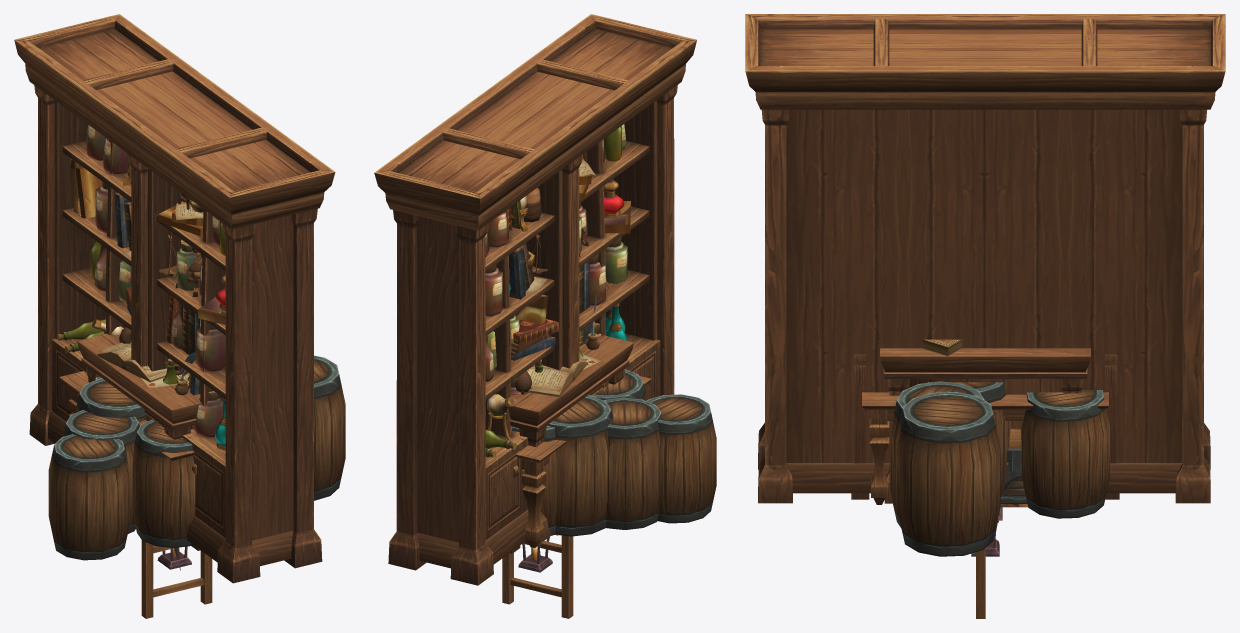
The model's file is props.dae.
The picture shows the model from 3 angles, left to right: view 1: azimuth 30°, elevation 25°; view 2: azimuth 150°, elevation 25°; view 3: azimuth 270°, elevation 25°; orthographic projection. The views are drawn at different scales.
Visible parts, largest first — view 1: Cupboard_03_mesh, Barrels_Preset_02_Mesh, Cupboard_Big_Preset_03_mesh, Drawer_01_mesh, Cupboard_Preset_02_mesh, Barrels_Preset_01_Mesh, Ladder_01_mesh, Drawer_Preset_02_mesh, Table_01_mesh, Lantern_01; view 2: Cupboard_03_mesh, Barrels_Preset_02_Mesh, Cupboard_Big_Preset_03_mesh, Barrels_Preset_01_Mesh, Drawer_01_mesh, Cupboard_Preset_02_mesh, Table_01_mesh, Ladder_01_mesh, Drawer_Preset_02_mesh, Lantern_01; view 3: Cupboard_03_mesh, Barrels_Preset_02_Mesh, Drawer_01_mesh, Table_01_mesh, Bench_01_mesh, Barrels_Preset_01_Mesh, Treasure_Chest_lid_01_mesh, Ladder_01_mesh.
Part boxes in pixels (bbox=[...]): Cupboard_03_mesh: bbox=[14, 14, 335, 583]; Barrels_Preset_02_Mesh: bbox=[48, 355, 345, 560]; Cupboard_Big_Preset_03_mesh: bbox=[57, 124, 225, 450]; Drawer_01_mesh: bbox=[77, 333, 201, 439]; Cupboard_Preset_02_mesh: bbox=[114, 153, 202, 395]; Barrels_Preset_01_Mesh: bbox=[63, 376, 139, 533]; Ladder_01_mesh: bbox=[141, 540, 212, 618]; Drawer_Preset_02_mesh: bbox=[97, 342, 195, 395]; Table_01_mesh: bbox=[59, 371, 194, 460]; Lantern_01: bbox=[157, 546, 191, 569]; Cupboard_03_mesh: bbox=[374, 14, 696, 585]; Barrels_Preset_02_Mesh: bbox=[547, 369, 716, 536]; Cupboard_Big_Preset_03_mesh: bbox=[485, 124, 630, 457]; Barrels_Preset_01_Mesh: bbox=[511, 397, 661, 535]; Drawer_01_mesh: bbox=[508, 335, 633, 544]; Cupboard_Preset_02_mesh: bbox=[508, 187, 592, 394]; Table_01_mesh: bbox=[515, 376, 651, 547]; Ladder_01_mesh: bbox=[502, 535, 573, 618]; Drawer_Preset_02_mesh: bbox=[527, 294, 600, 396]; Lantern_01: bbox=[518, 537, 552, 572]; Cupboard_03_mesh: bbox=[745, 14, 1225, 503]; Barrels_Preset_02_Mesh: bbox=[895, 382, 1109, 556]; Drawer_01_mesh: bbox=[880, 348, 1090, 503]; Table_01_mesh: bbox=[862, 392, 1108, 504]; Bench_01_mesh: bbox=[851, 354, 1119, 499]; Barrels_Preset_01_Mesh: bbox=[889, 381, 984, 528]; Treasure_Chest_lid_01_mesh: bbox=[1000, 468, 1027, 503]; Ladder_01_mesh: bbox=[976, 548, 985, 618].
Bounding box in the file's own units: 2.82 × 4.57 × 3.56.
